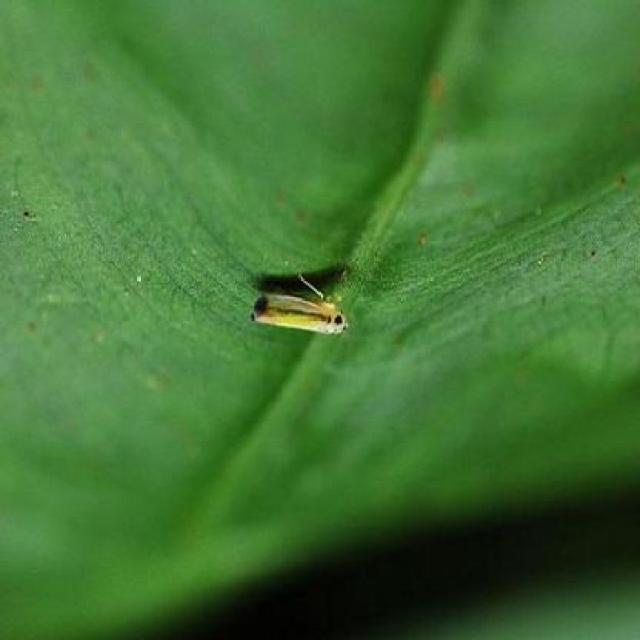green-leafhopper: (258, 283, 349, 346)
